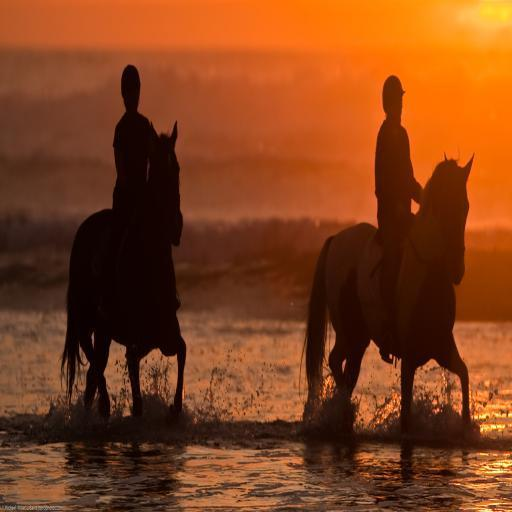horse: (296, 147, 474, 437), (57, 123, 185, 429)
